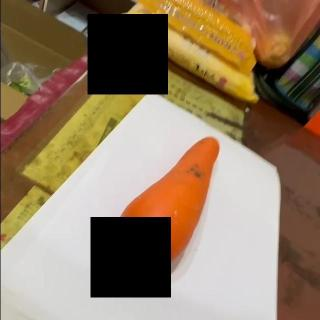carrot: (117, 137, 219, 271)
